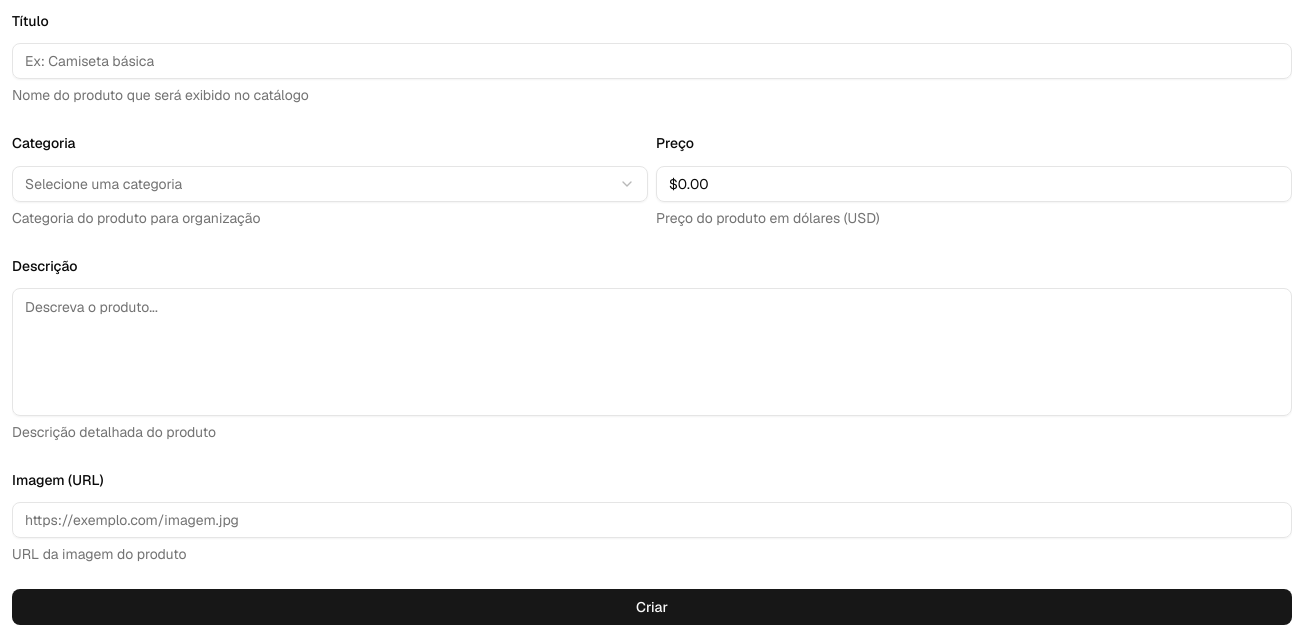
ProductForm › Interações com o formulário › deve formatar o preço corretamente
The width and height of the screenshot is (1304, 642).
In the field labelled "Preço": (974, 184) [656,166,1292,202], type "12345"
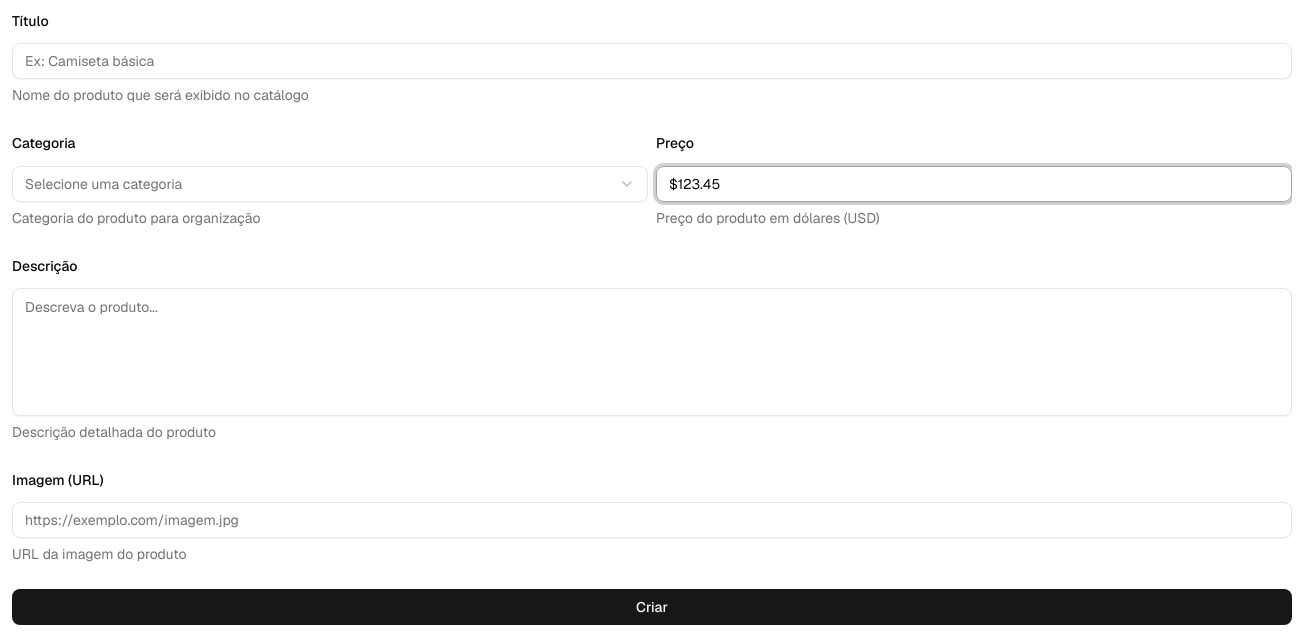
Expected: the field labelled "Preço" holds "$123.45", [656,166,1292,202]
